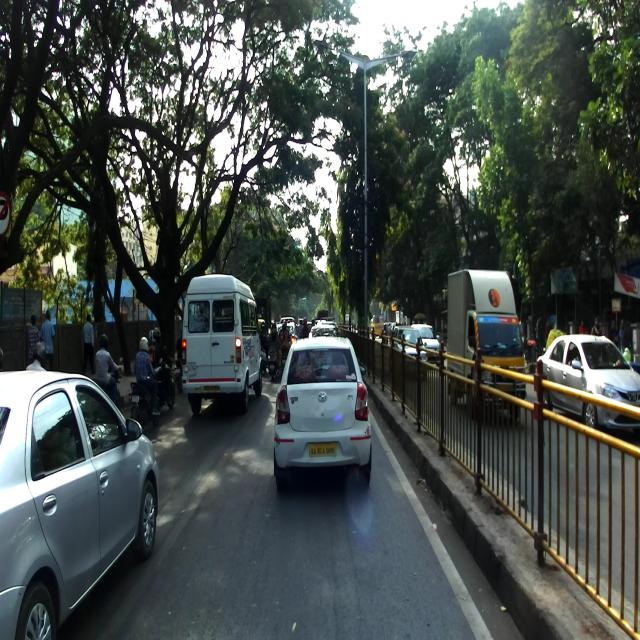Car_Maruti-Suzuki: (392, 325, 427, 367), (409, 322, 442, 364)
Car_Toyota: (0, 368, 160, 639), (272, 332, 372, 492), (536, 332, 640, 438)
autorickshaw: (257, 317, 265, 348)
mini-bus: (180, 272, 266, 415)
motorcycle: (128, 358, 164, 432), (90, 356, 124, 410), (146, 353, 176, 408)
scooter: (266, 341, 280, 380)
truck: (441, 268, 525, 424)
